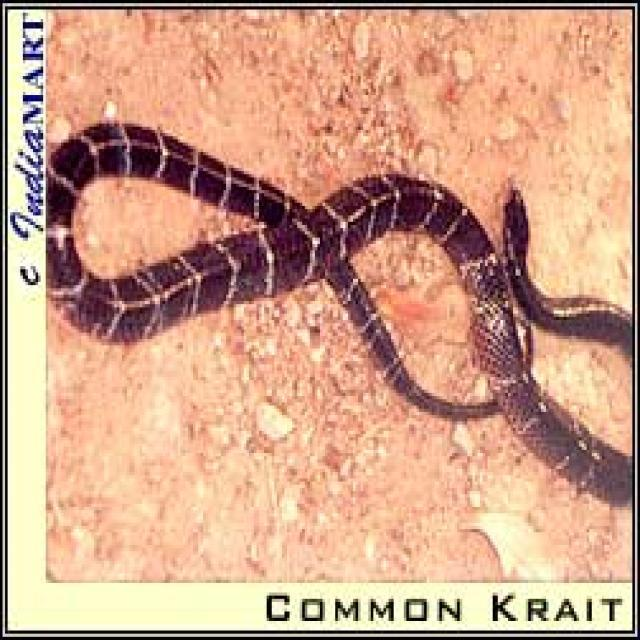Snake: (45, 101, 632, 507)
